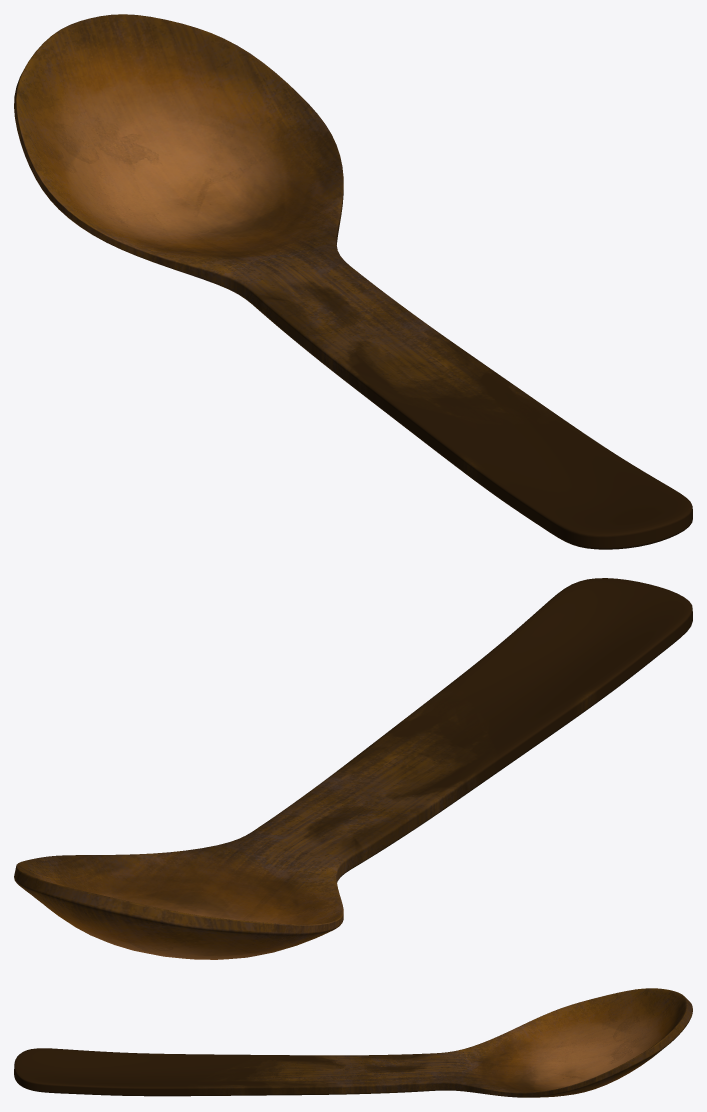
The model's file is HT3D_21_007_HornSpoon03_Texture_MSM.fbx.
3 renders of one model, top to bottom at view 1: azimuth 30°, elevation 25°; view 2: azimuth 150°, elevation 25°; view 3: azimuth 270°, elevation 25°, orthographic. The views are drawn at different scales.
Parts seen in each view (by area): view 1: pCube1; view 2: pCube1; view 3: pCube1.
Part boxes in pixels (x1,y1,x2,y2): pCube1: (14, 14, 692, 549); pCube1: (14, 578, 692, 959); pCube1: (14, 988, 692, 1097).
Size of the model in its own units: 2.16 by 0.9735 by 7.65.
1 material, 1 textured.
